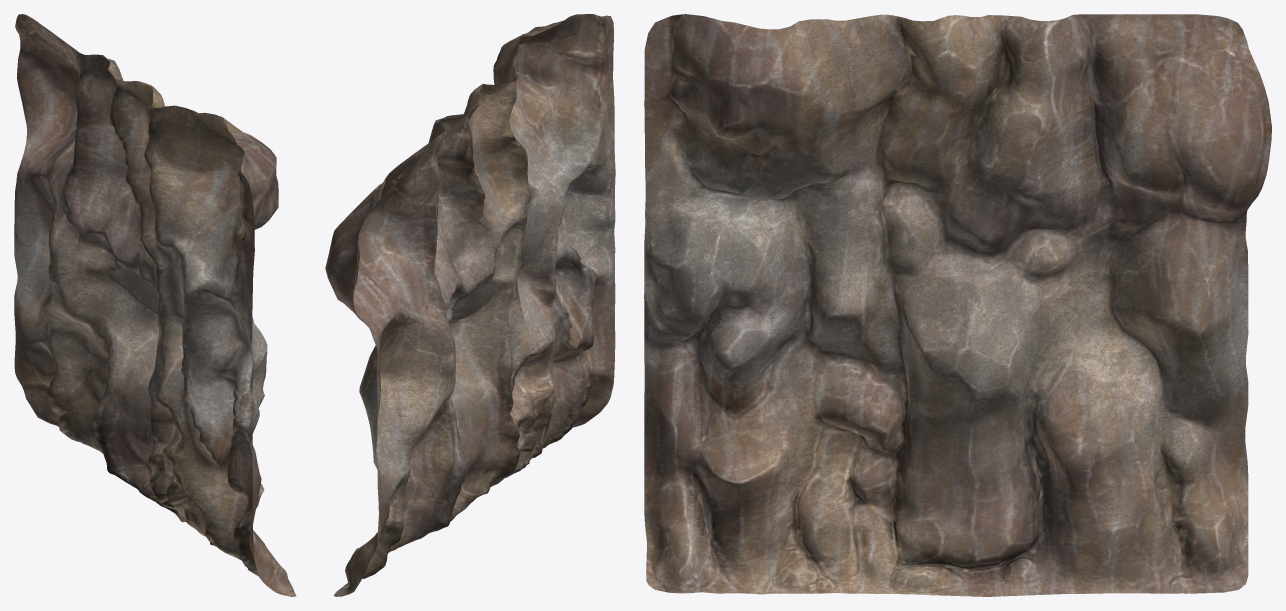
The model's file is cave_ravine_wall_sand_01.dae.
3 renders of one model, left to right at view 1: azimuth 30°, elevation 25°; view 2: azimuth 150°, elevation 25°; view 3: azimuth 270°, elevation 25°, orthographic. The views are drawn at different scales.
Parts seen in each view (by area): view 1: wall_1_low; view 2: wall_1_low; view 3: wall_1_low.
Boxes of the visible parts, <box> form: wall_1_low: <box>14,14,296,596</box>; wall_1_low: <box>325,14,615,596</box>; wall_1_low: <box>644,14,1271,596</box>.
Size of what is drawn, in the model's own units: 0.8418 by 4.11 by 4.16.
Materials: 1 (1 with a texture image).
